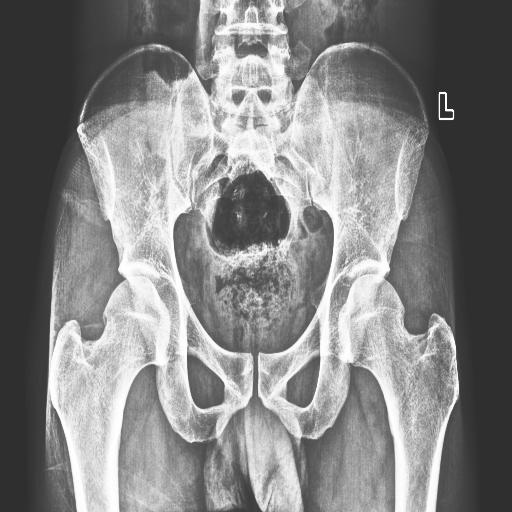normal: (339, 274, 462, 512), (49, 276, 171, 511)
